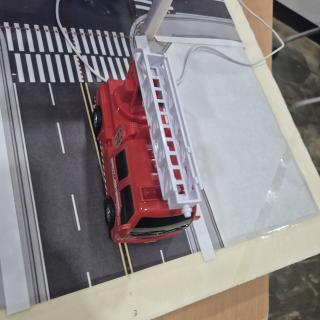Fire_truck: (92, 53, 202, 243)
